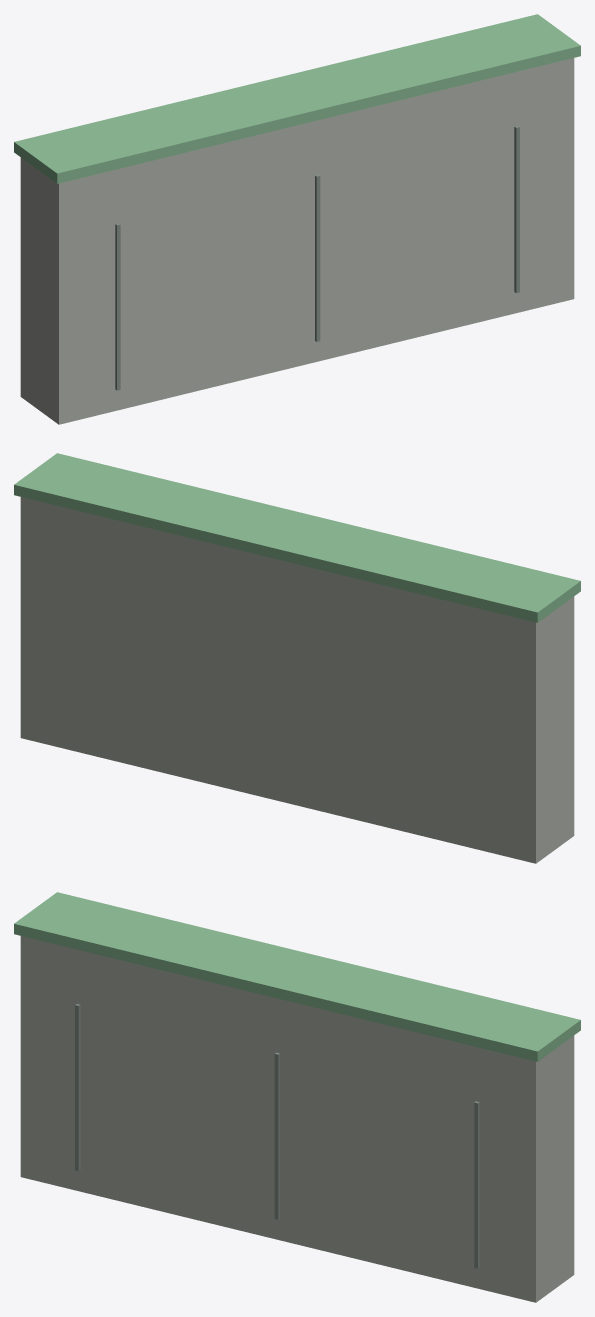
File: muro_fondo.glb
3 renders of one model, top to bottom at view 1: azimuth 30°, elevation 25°; view 2: azimuth 150°, elevation 25°; view 3: azimuth 330°, elevation 25°, orthographic.
Parts seen in each view (by area): view 1: muro_fondo; view 2: muro_fondo; view 3: muro_fondo.
Boxes of the visible parts, left/top/right/bottom form: muro_fondo: left=14, top=14, right=580, bottom=424; muro_fondo: left=14, top=453, right=580, bottom=863; muro_fondo: left=14, top=892, right=580, bottom=1302.
Size of the model in its own units: 6.3 by 2.92 by 0.9.
